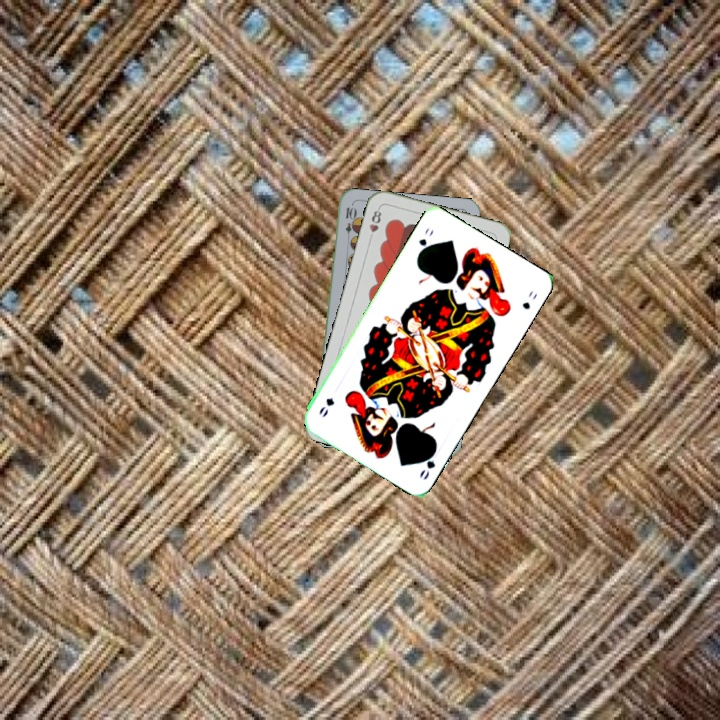E10: (341, 203, 356, 244)
GO: (415, 444, 439, 483), (414, 224, 437, 259)
H8: (365, 204, 384, 244)
